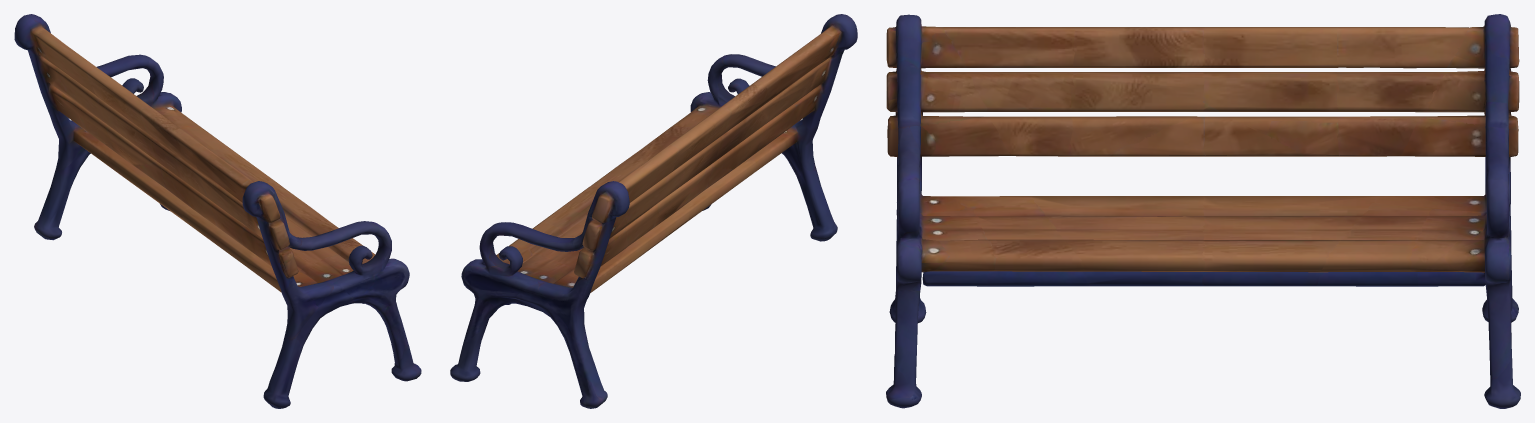
The model's file is iron_park_bench.glb.
3 views of the same model, side by side, from view 1: azimuth 30°, elevation 25°; view 2: azimuth 150°, elevation 25°; view 3: azimuth 270°, elevation 25° (orthographic). The views are drawn at different scales.
Visible parts, largest first — view 1: tripo_node_d852e157-c75f-4507-ba70-450d7c9c8b21; view 2: tripo_node_d852e157-c75f-4507-ba70-450d7c9c8b21; view 3: tripo_node_d852e157-c75f-4507-ba70-450d7c9c8b21.
Part boxes in pixels (x1,y1,x2,y2): tripo_node_d852e157-c75f-4507-ba70-450d7c9c8b21: (14, 14, 421, 408); tripo_node_d852e157-c75f-4507-ba70-450d7c9c8b21: (450, 14, 857, 408); tripo_node_d852e157-c75f-4507-ba70-450d7c9c8b21: (886, 14, 1520, 408).
Size of the model in its own units: 0.3848 by 0.4925 by 0.9483.
1 material, 1 textured.
